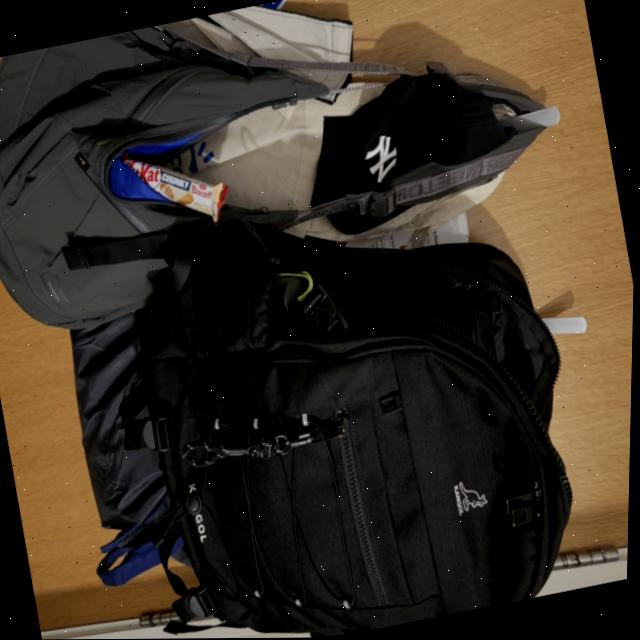chocolate: (117, 130, 240, 244)
